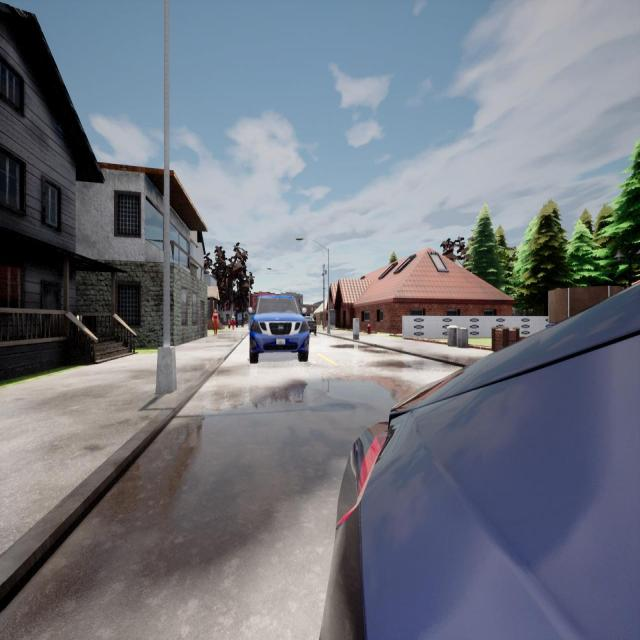Pedestrian: (212, 308, 219, 336), (232, 313, 235, 331)
Vehicle: (324, 289, 640, 640), (249, 294, 309, 362), (305, 316, 316, 334)
